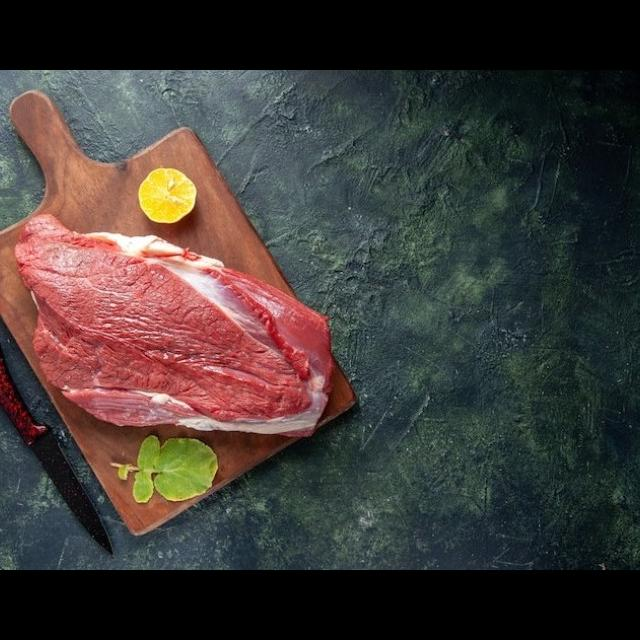beef: (10, 209, 342, 440)
